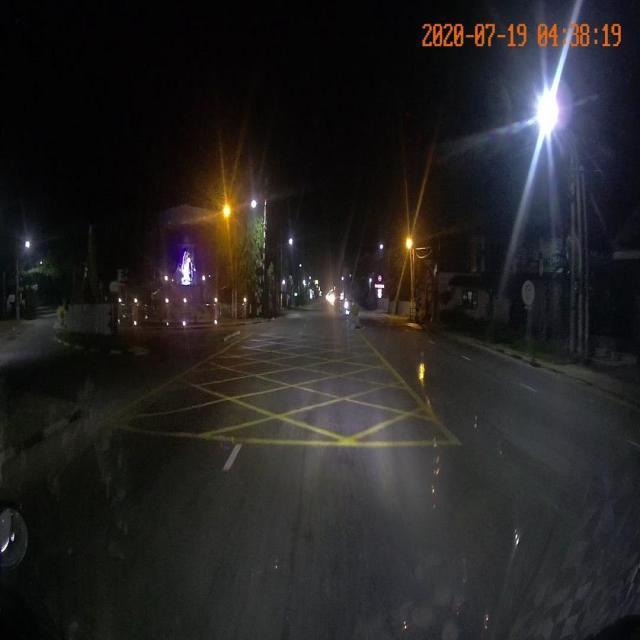Jeltaya razmetka: (100, 330, 467, 449)
Liniya 1: (221, 445, 242, 470), (518, 383, 536, 393), (460, 354, 471, 362)
